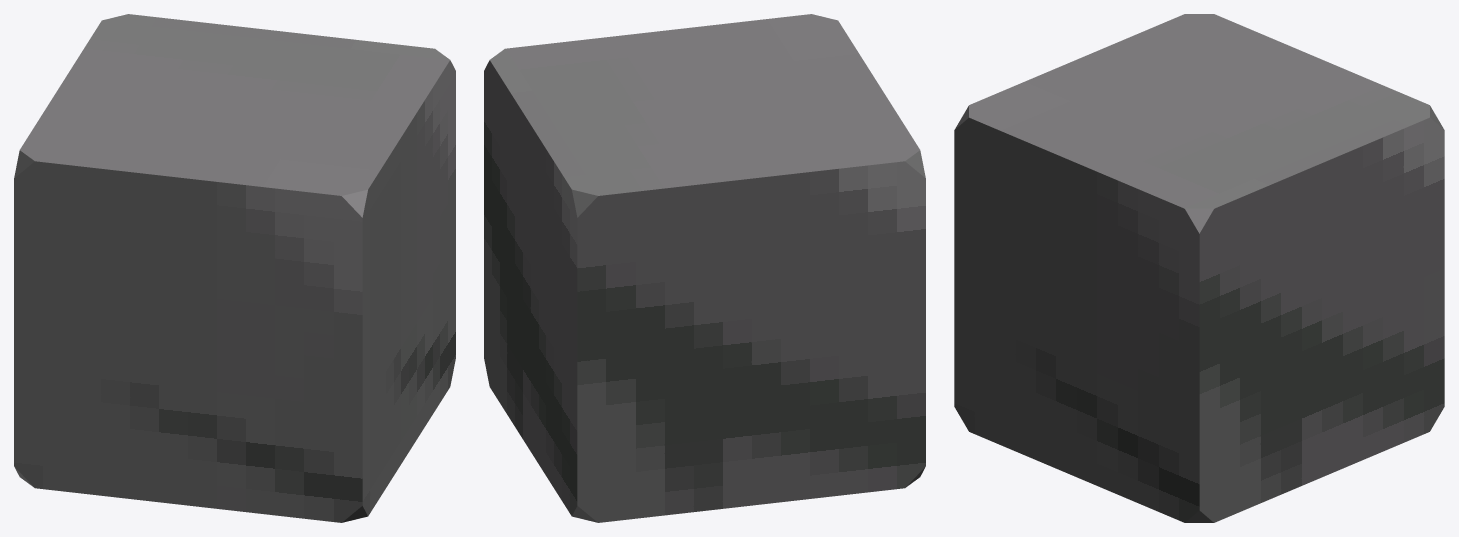
The model's file is Building_StoneCubeSculpture.obj.
The picture shows the model from 3 angles, left to right: view 1: azimuth 30°, elevation 25°; view 2: azimuth 150°, elevation 25°; view 3: azimuth 270°, elevation 25°; orthographic projection. The views are drawn at different scales.
Parts seen in each view (by area): view 1: Body; view 2: Body; view 3: Body.
Part boxes in pixels (x1=…): Body: x1=14, y1=14, x2=455, y2=522; Body: x1=484, y1=14, x2=925, y2=522; Body: x1=954, y1=14, x2=1444, y2=522.
Size of the model in its own units: 0.6505 by 0.46 by 0.6505.
Materials: 1 (1 with a texture image).
